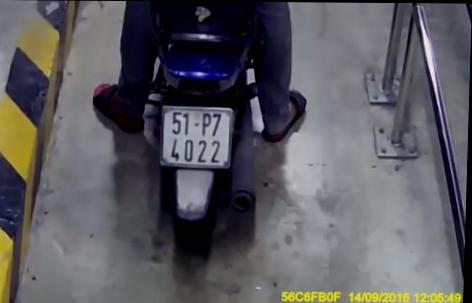License_Plate: (154, 100, 239, 178)
